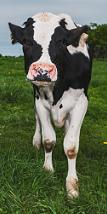cow: (8, 11, 93, 206)
